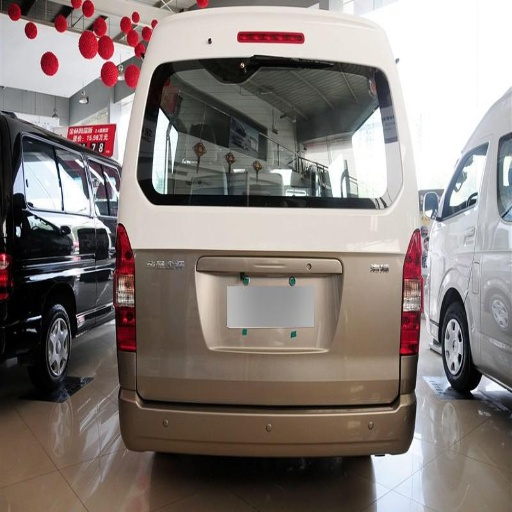back_bumper: (120, 320, 435, 455)
tailgate: (204, 249, 332, 352)
trunk: (140, 211, 404, 402), (29, 260, 98, 319)
